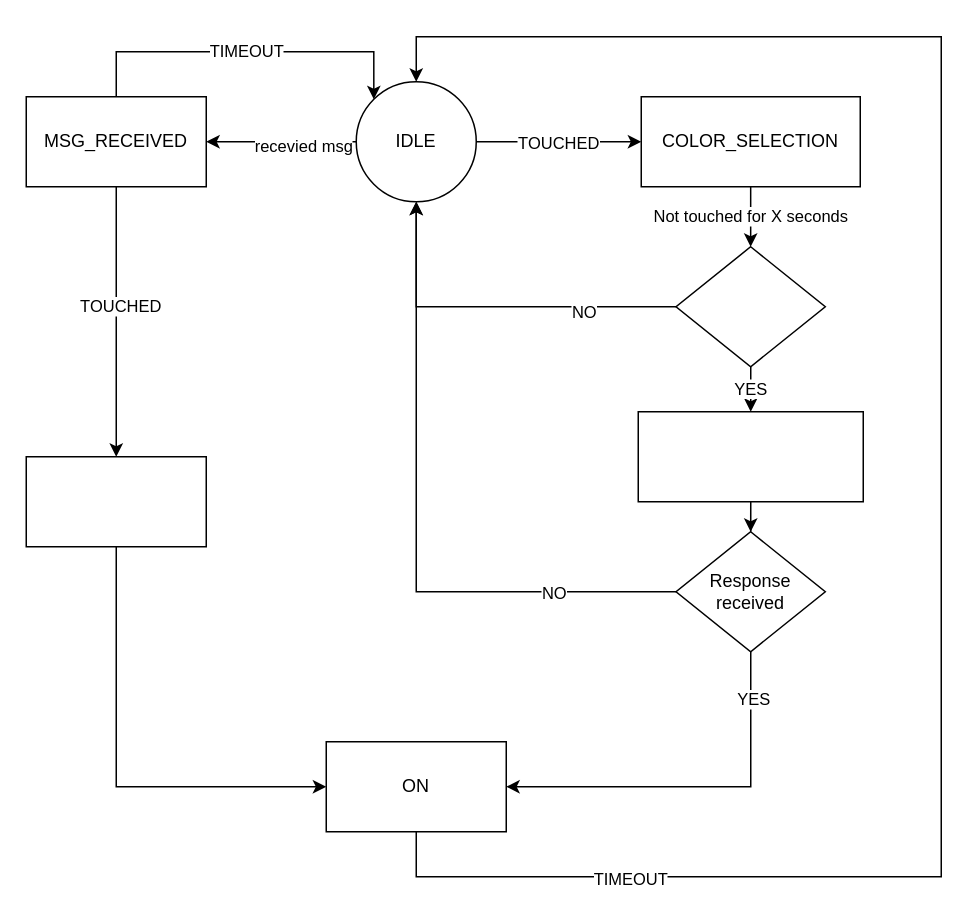
This 980x915 diagram has some shape labels left out. The shapes that lost their labels are listed below. From the top down, each one's centre as x and y in pixels, then its label:
pixel 750 306: Color selected?
pixel 750 456: WAITING_RESPONSE
pixel 115 501: SEND_RESPONSE
